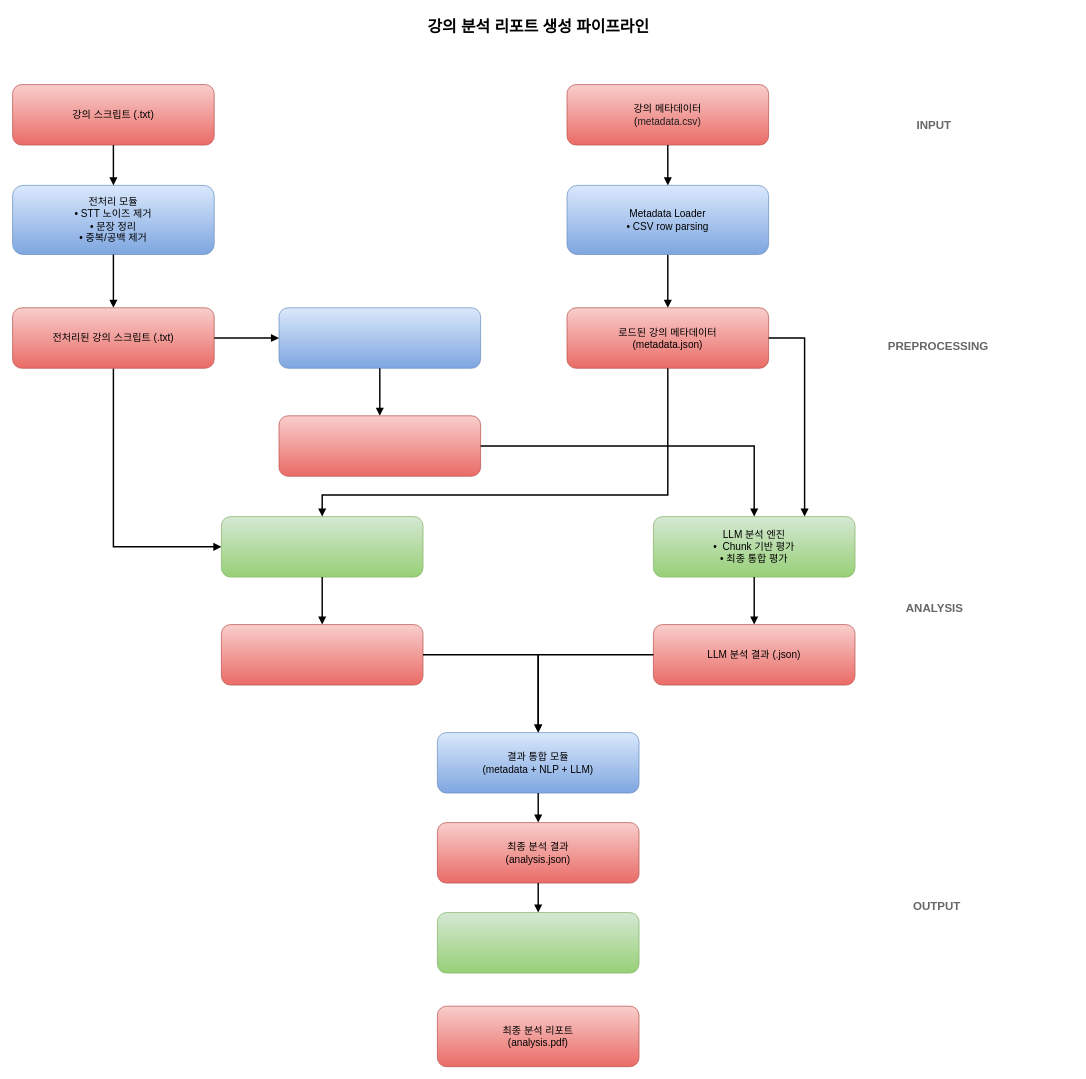
This 1086x1079 diagram has some shape labels left out. Here are the shapes that lost their labels. From the top down, the box of each, then its label:
(278, 307, 481, 368): 청킹 모듈 • 강의 세그먼트 분할 • chunk list 생성
(278, 415, 481, 476): 청킹된 강의 스크립트 [chunk_1, chunk_2, ...]
(221, 516, 423, 577): NLP 분석 엔진 • 정량 지표 분석
(221, 624, 423, 685): NLP 분석 결과 (.json)
(437, 912, 639, 973): Report Generator PDF 리포트 생성
